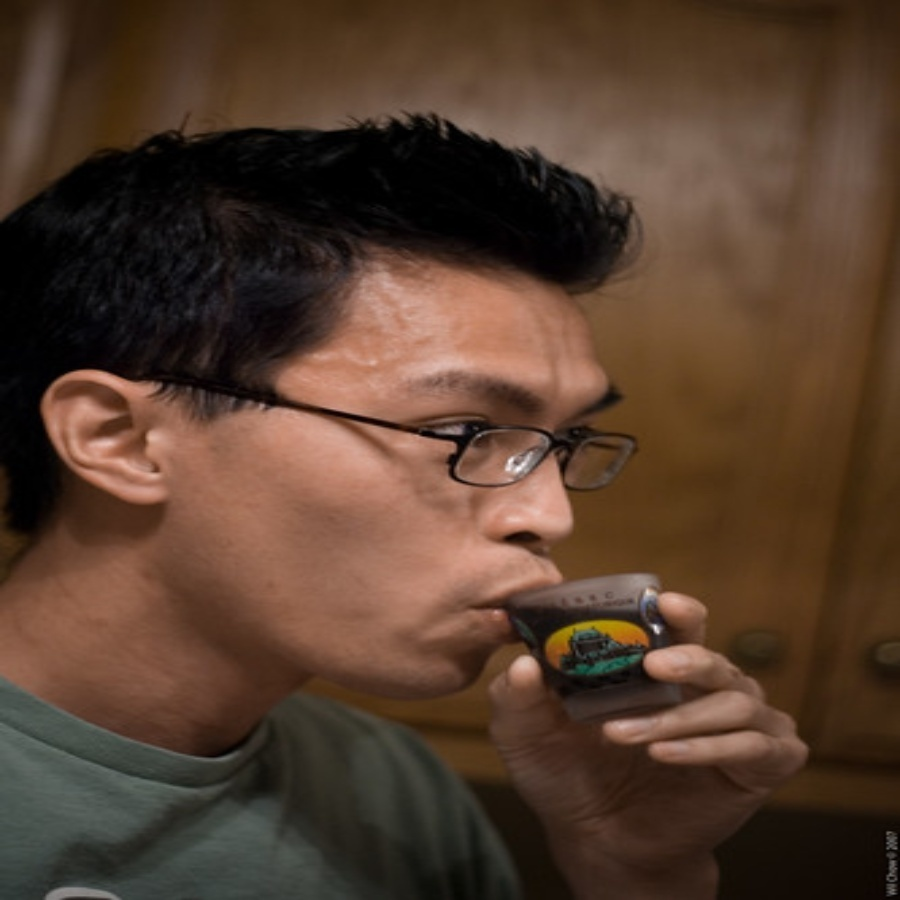whiskey: (523, 567, 690, 706)
